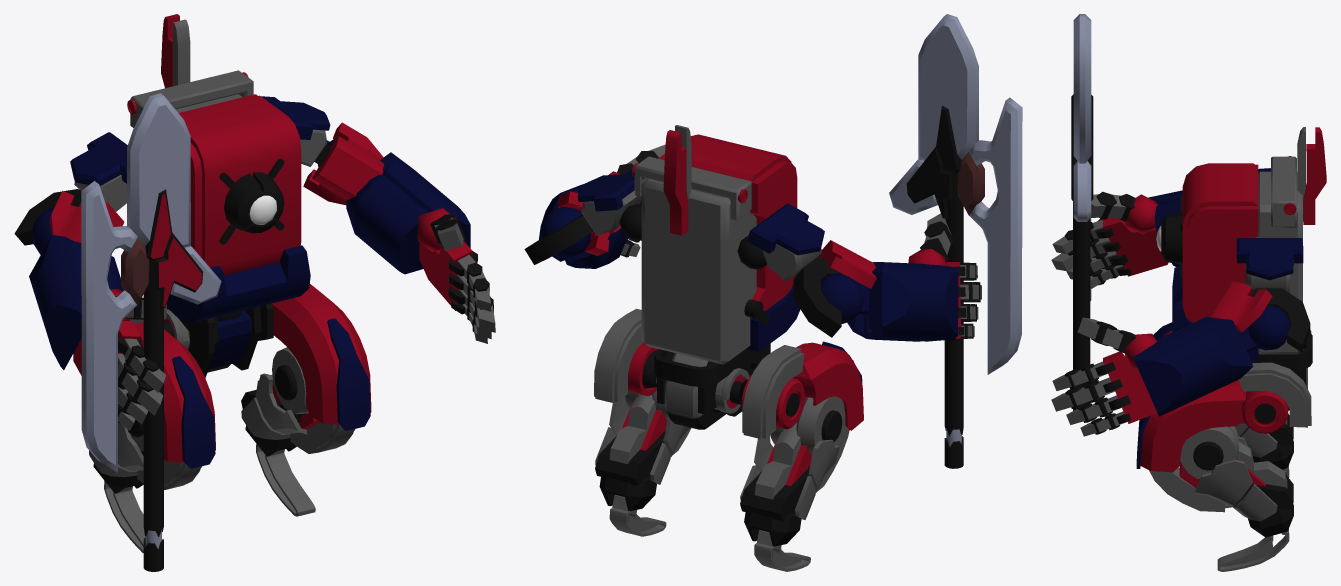
File: Roshan 1.fbx
3 views of the same model, side by side, from view 1: azimuth 30°, elevation 25°; view 2: azimuth 150°, elevation 25°; view 3: azimuth 270°, elevation 25° (orthographic). The views are drawn at different scales.
Visible parts, largest first — view 1: Cylinder.027, Torso.017, Cube.164, Cylinder.023, Cube.183, Cube.206, Cube.167, Cube.192, Cube.187, Circle.181, Cube.169, Circle.183 (+6 smaller); view 2: Cylinder.027, Cube.168, Cube.183, Cylinder.023, Cube.185, Cylinder.017, Torso.017, Cube.164, Cube.192, Cube.187, Cube.206, Cube.186 (+4 smaller); view 3: Cube.206, Cube.164, Cylinder.023, Torso.017, Cylinder.027, Cube.183, Cube.185, Cube.187, Cylinder.017, Cube.168, Cube.169, Cube.179 (+7 smaller).
Part boxes in pixels (left/top/right/bottom): Cylinder.027: left=81, top=93, right=221, bottom=571; Torso.017: left=128, top=283, right=371, bottom=468; Cube.164: left=178, top=94, right=301, bottom=275; Cylinder.023: left=29, top=139, right=470, bottom=369; Cube.183: left=14, top=96, right=384, bottom=245; Cube.206: left=73, top=208, right=495, bottom=430; Cube.167: left=167, top=245, right=310, bottom=322; Cube.192: left=164, top=303, right=273, bottom=377; Cube.187: left=89, top=373, right=307, bottom=477; Circle.181: left=104, top=444, right=315, bottom=552; Cube.169: left=130, top=70, right=253, bottom=127; Circle.183: left=224, top=172, right=284, bottom=233; Cylinder.027: left=889, top=14, right=1022, bottom=468; Cube.168: left=641, top=179, right=756, bottom=364; Cube.183: left=524, top=170, right=876, bottom=337; Cylinder.023: left=539, top=184, right=958, bottom=341; Cube.185: left=595, top=390, right=845, bottom=520; Cylinder.017: left=594, top=308, right=804, bottom=438; Torso.017: left=628, top=341, right=863, bottom=441; Cube.164: left=658, top=134, right=797, bottom=311; Cube.192: left=654, top=343, right=770, bottom=429; Cube.187: left=595, top=396, right=839, bottom=519; Cube.206: left=609, top=144, right=981, bottom=338; Cube.186: left=599, top=477, right=801, bottom=546; Cube.206: left=1051, top=191, right=1168, bottom=436; Cube.164: left=1182, top=163, right=1258, bottom=322; Cylinder.023: left=1133, top=190, right=1290, bottom=416; Torso.017: left=1136, top=322, right=1288, bottom=472; Cylinder.027: left=1071, top=14, right=1093, bottom=410; Cube.183: left=1211, top=168, right=1310, bottom=352; Cube.185: left=1179, top=414, right=1293, bottom=509; Cube.187: left=1195, top=423, right=1277, bottom=521; Cylinder.017: left=1239, top=330, right=1311, bottom=427; Cube.168: left=1245, top=171, right=1302, bottom=354; Cube.169: left=1271, top=156, right=1296, bottom=227; Cube.179: left=1303, top=127, right=1326, bottom=224.
Bounding box in the file's own units: 977 × 1153 × 630.
